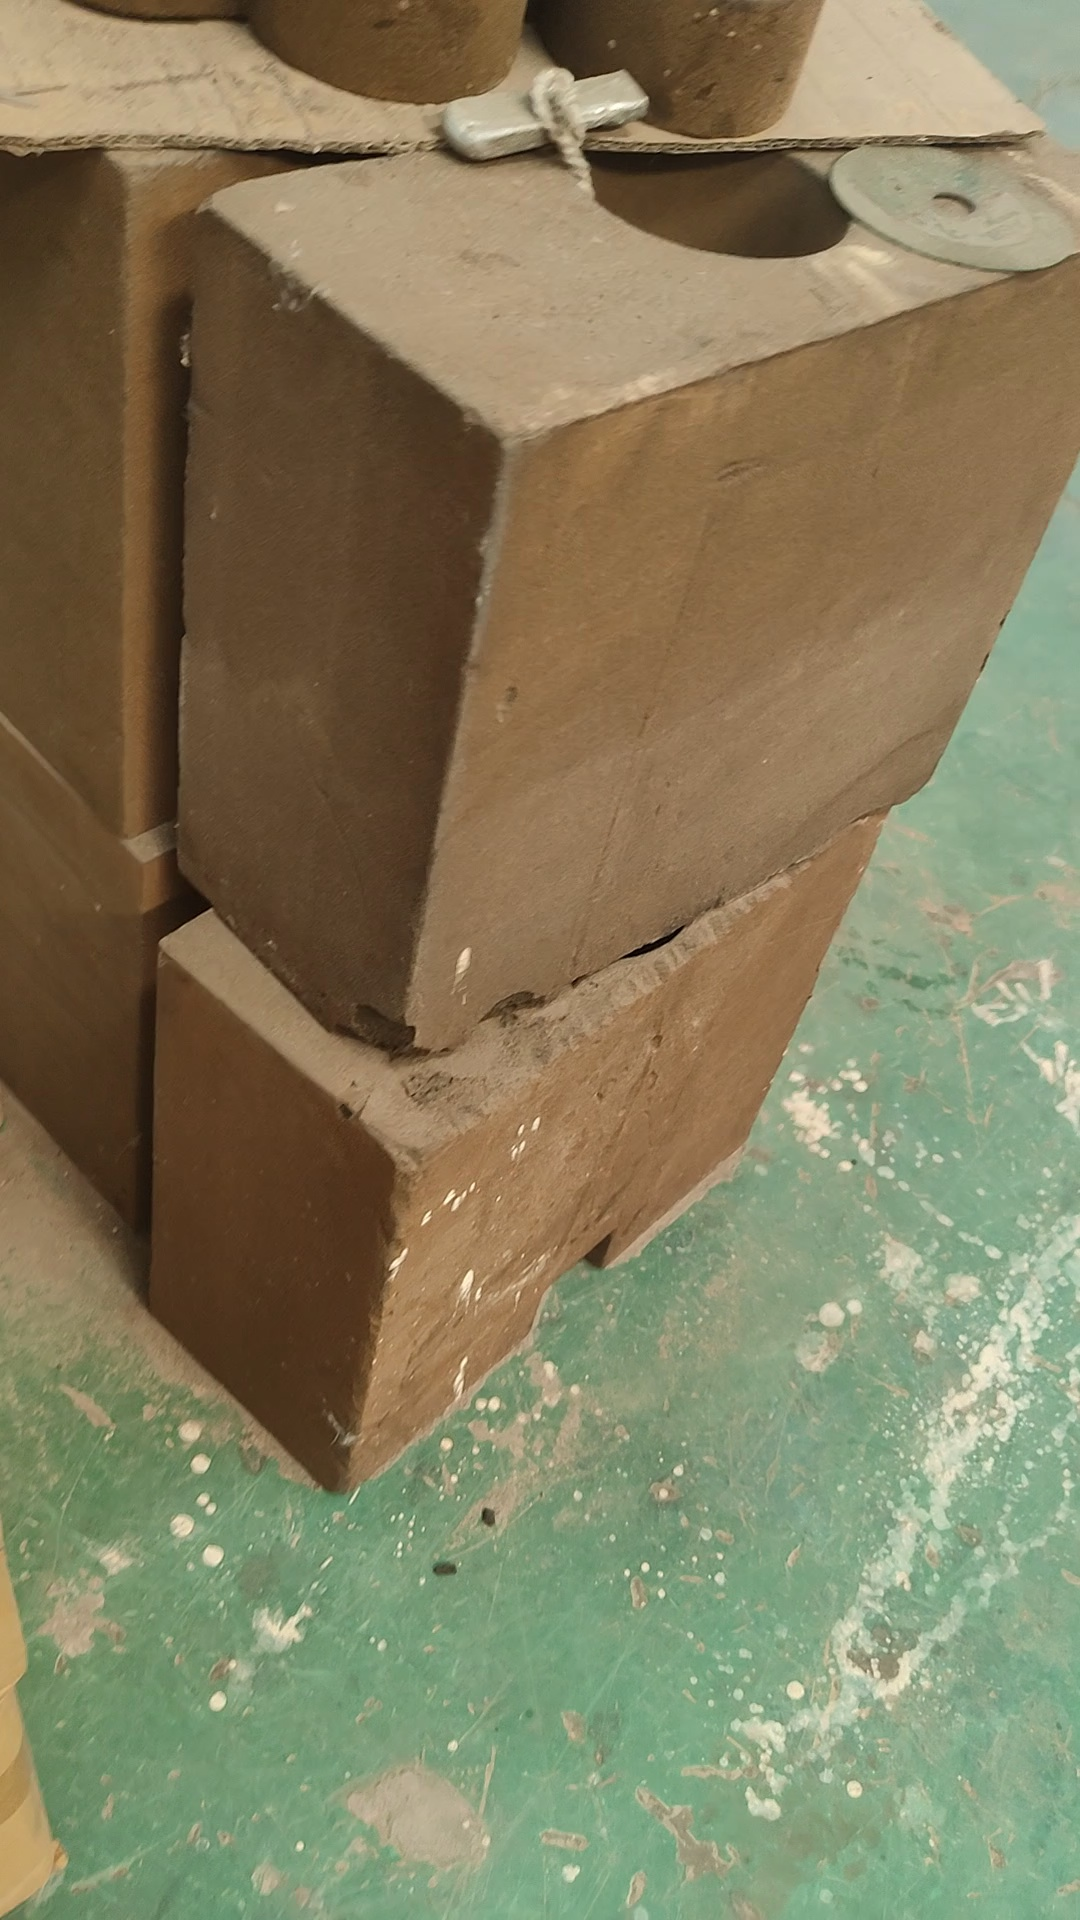pouring hole: (563, 105, 851, 258)
